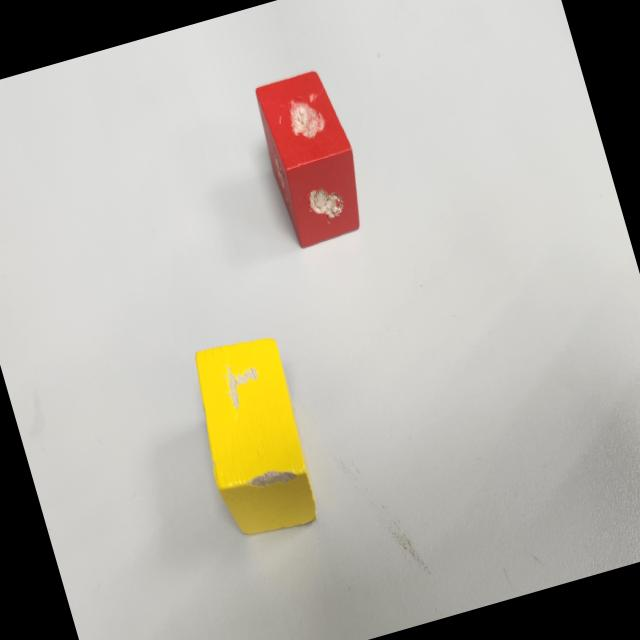broken: (180, 328, 327, 544), (246, 66, 376, 251)
